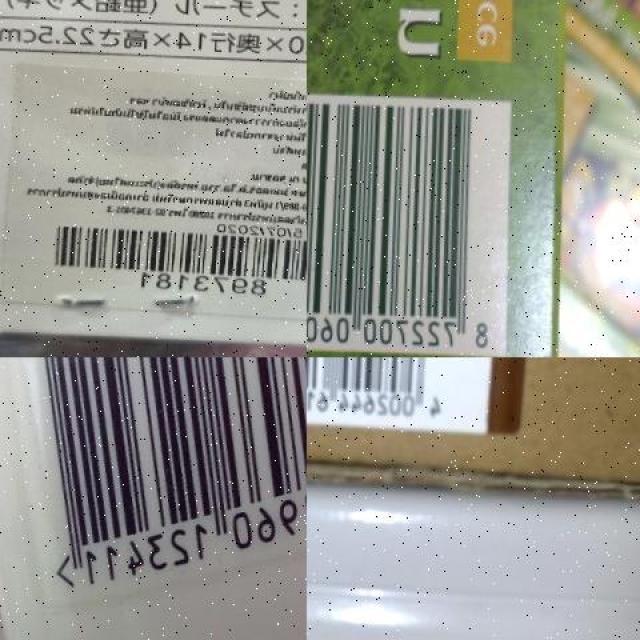Barcode: (5, 357, 307, 620), (306, 87, 518, 356), (41, 220, 307, 296), (306, 357, 462, 424)
